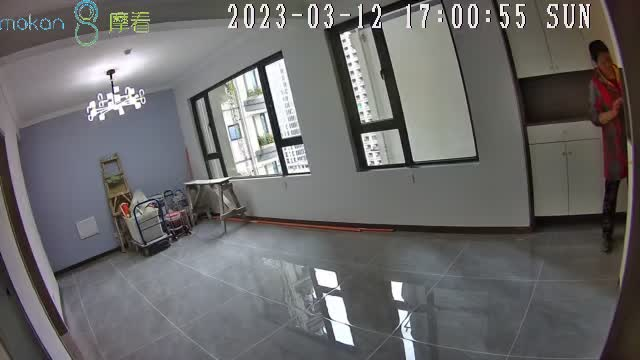people: (589, 40, 628, 253)
window: (334, 1, 480, 169), (192, 56, 311, 180)
